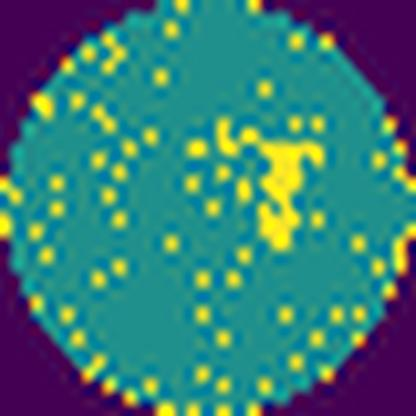Loc: (234, 128, 325, 248)
